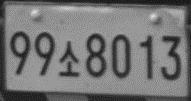0: (110, 33, 132, 78)
1: (137, 32, 154, 81)
3: (160, 33, 181, 81)
8: (85, 31, 108, 78)
9: (8, 30, 31, 76), (33, 31, 56, 76)
소: (57, 40, 81, 78)
